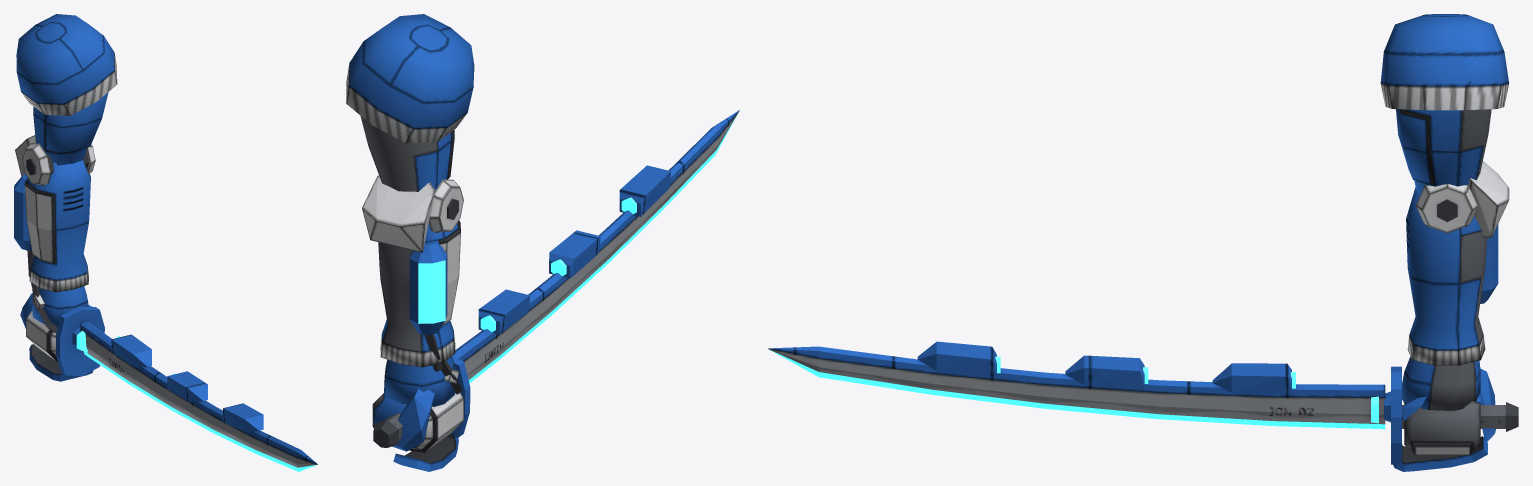
The model's file is LeftIonKatanaArmX.glb.
3 renders of one model, left to right at view 1: azimuth 30°, elevation 25°; view 2: azimuth 150°, elevation 25°; view 3: azimuth 270°, elevation 25°, orthographic. The views are drawn at different scales.
Visible parts, largest first — view 1: LeftIonKatanaArmX_Fist, LeftIonKatanaArmX_Upper, LeftIonKatanaArmX_Fore; view 2: LeftIonKatanaArmX_Fist, LeftIonKatanaArmX_Upper, LeftIonKatanaArmX_Fore; view 3: LeftIonKatanaArmX_Fist, LeftIonKatanaArmX_Upper, LeftIonKatanaArmX_Fore.
Part boxes in pixels (x1,y1,x2,y2): LeftIonKatanaArmX_Fist: [20, 283, 317, 471]; LeftIonKatanaArmX_Upper: [16, 14, 117, 165]; LeftIonKatanaArmX_Fore: [14, 135, 95, 292]; LeftIonKatanaArmX_Fist: [372, 110, 739, 471]; LeftIonKatanaArmX_Upper: [346, 14, 474, 191]; LeftIonKatanaArmX_Fore: [362, 175, 463, 371]; LeftIonKatanaArmX_Fist: [768, 341, 1518, 471]; LeftIonKatanaArmX_Upper: [1380, 14, 1508, 196]; LeftIonKatanaArmX_Fore: [1406, 161, 1509, 365].
Size of the model in its own units: 4.12 by 15.75 by 23.65.
6 materials, 5 textured.
